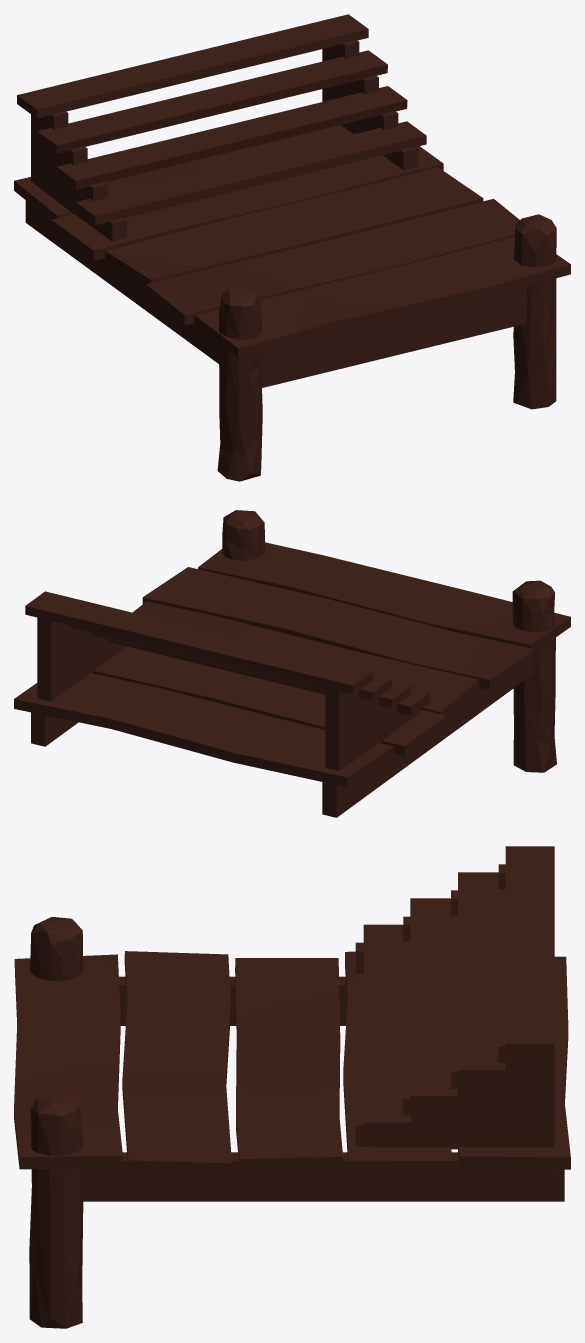
File: port_wooden_bridge_b_stairs.FBX
The picture shows the model from 3 angles, top to bottom: view 1: azimuth 30°, elevation 25°; view 2: azimuth 150°, elevation 25°; view 3: azimuth 270°, elevation 25°; orthographic projection. The views are drawn at different scales.
Parts seen in each view (by area): view 1: port_wooden_bridge_b_stairs; view 2: port_wooden_bridge_b_stairs; view 3: port_wooden_bridge_b_stairs.
Part boxes in pixels (box(x1,y1,x2,y2)): port_wooden_bridge_b_stairs: box(14, 14, 570, 481); port_wooden_bridge_b_stairs: box(14, 510, 570, 817); port_wooden_bridge_b_stairs: box(14, 846, 570, 1328).
Size of the model in its own units: 369 by 232 by 411.
